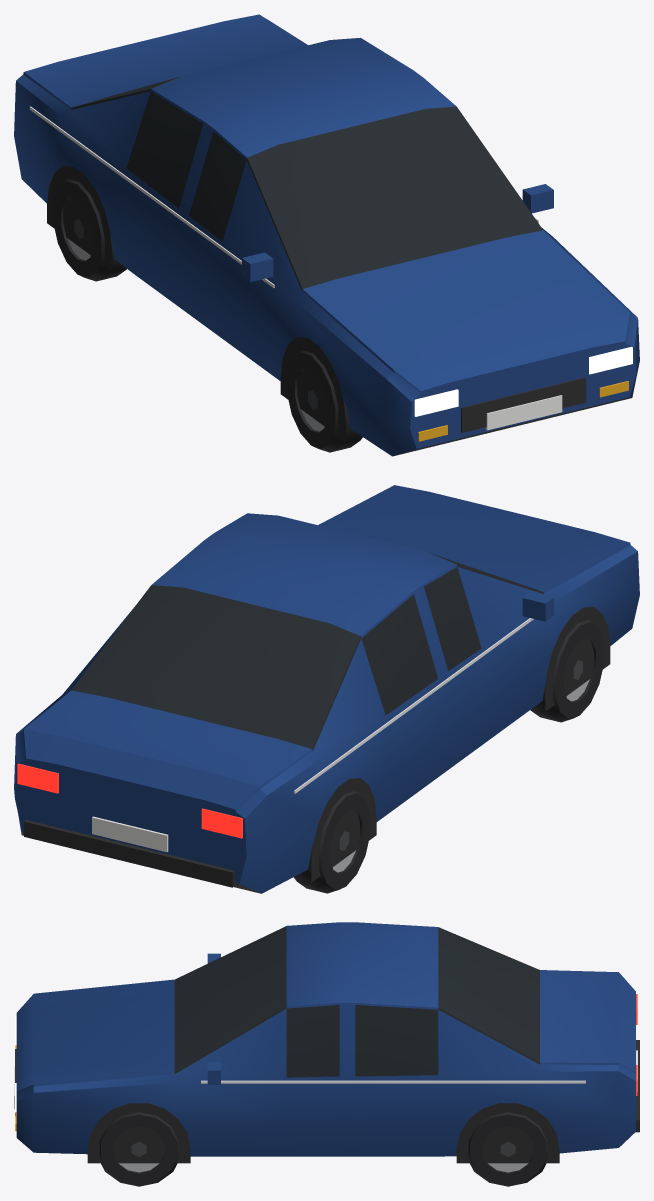
The model's file is sedan_blue.glb.
The picture shows the model from 3 angles, top to bottom: view 1: azimuth 30°, elevation 25°; view 2: azimuth 150°, elevation 25°; view 3: azimuth 270°, elevation 25°; orthographic projection. The views are drawn at different scales.
Parts seen in each view (by area): view 1: sedan; view 2: sedan; view 3: sedan.
Part boxes in pixels (x1,y1,x2,y2): sedan: (14,14,639,456); sedan: (14,485,639,893); sedan: (14,922,639,1186).
Bounding box in the file's own units: 0.126 × 0.09 × 0.285.
